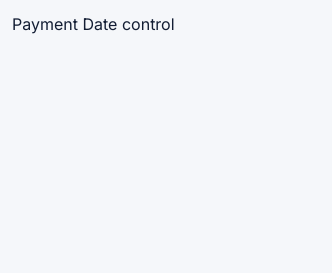
Test: LockedTip accessibility — ARIA tooltip pattern for every LOCKED_FIELD › [{"field":"Payment Date","note":"Date can't shift until the cash-invariant issue above is resolved."}] focus opens tooltip, aria-describedby is wired, blur + Es
# Keyboard focus opens the tooltip (no pointer events needed).
Step 1. Focus the element showing "Payment Date control" → (93, 24), box [12,12,175,36]
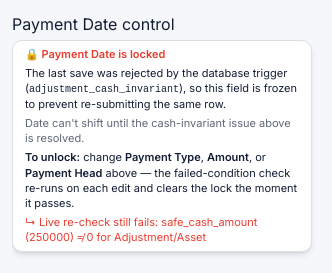
Expected: the text "adjustment_cash_invariant" is shown, [29,84,179,95]
Expected: the text "Date can't shift until the cash-invariant issue above is resolved." is shown, [25,116,299,146]
Expected: the text "To unlock:" is shown, [25,150,80,164]
# Blurring the trigger dismisses the tooltip (Radix default).
Step 2. Leave the element showing "Payment Date control", box [12,12,175,36]
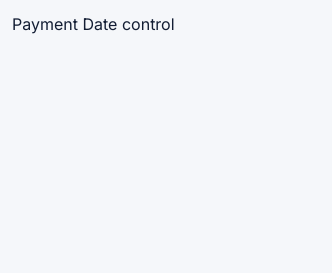
Expected: the tooltip "🔒 Payment Date is locked The last save was rejected by the database trigger (ad" is gone
Step 3. Focus the element showing "Payment Date control" → (93, 24), box [12,12,175,36]
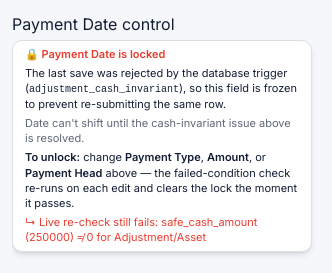
Expected: the tooltip is shown
Step 4. Press Escape in the element showing "Payment Date control", box [12,12,175,36]
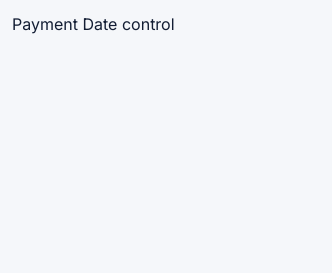
Expected: the tooltip "🔒 Payment Date is locked The last save was rejected by the database trigger (ad" is gone
